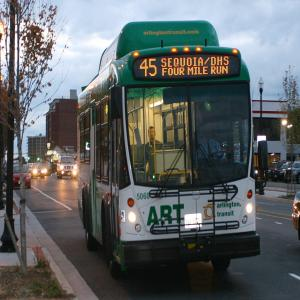Vehicle-registration-plate: (186, 215, 203, 229)
